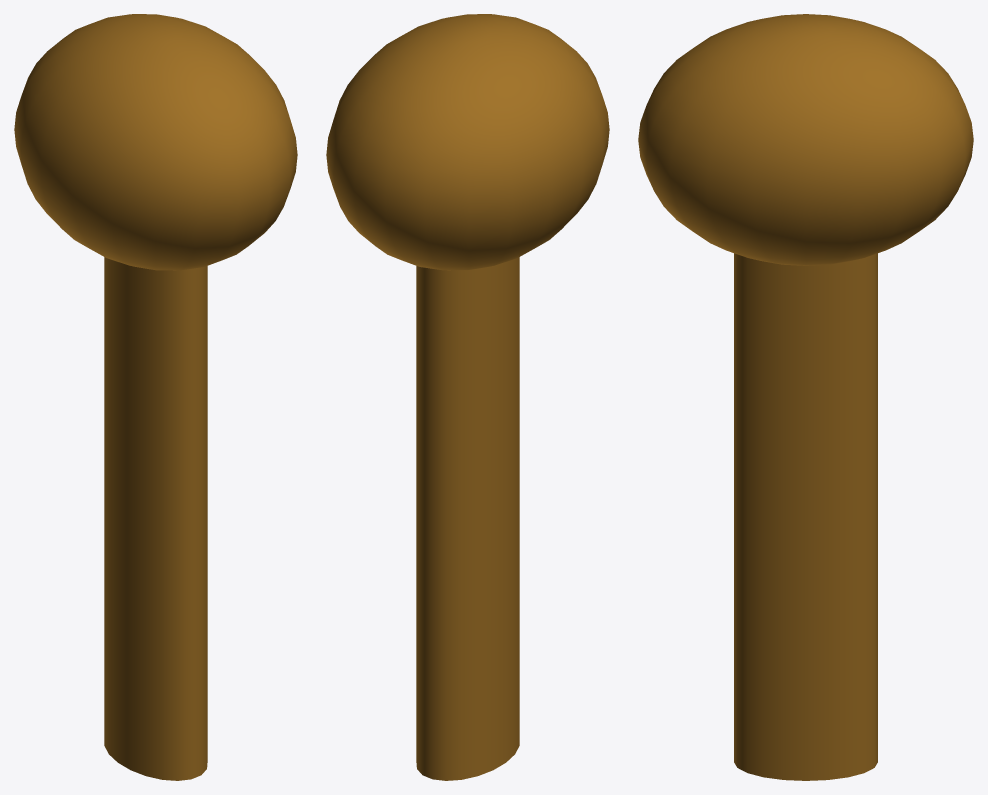
File: Bulb02.fbx
The picture shows the model from 3 angles, left to right: view 1: azimuth 30°, elevation 25°; view 2: azimuth 150°, elevation 25°; view 3: azimuth 270°, elevation 25°; orthographic projection.
Parts seen in each view (by area): view 1: polySurface106; view 2: polySurface106; view 3: polySurface106.
Boxes of the visible parts, x1,y1,x2,y2 form: polySurface106: [14, 14, 297, 780]; polySurface106: [326, 14, 609, 780]; polySurface106: [638, 14, 973, 780].
Bounding box in the file's own units: 0.1135 × 0.3396 × 0.1406.
